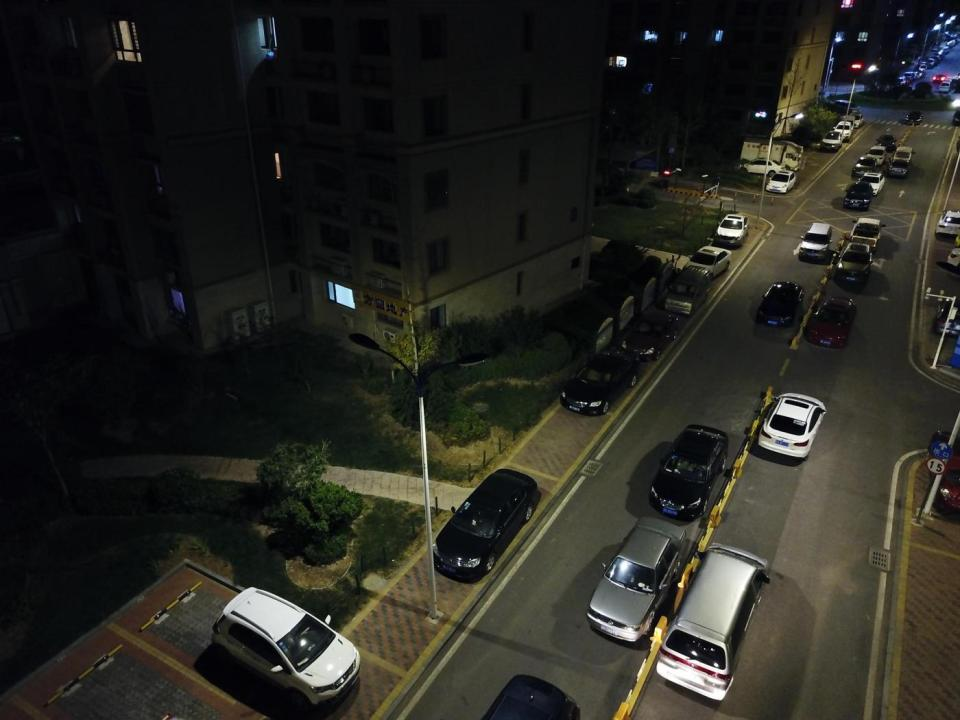car: (208, 584, 363, 712), (651, 540, 769, 701), (586, 512, 685, 645), (431, 467, 540, 581), (647, 424, 730, 522), (558, 345, 638, 417), (756, 391, 828, 461), (616, 307, 684, 362), (754, 278, 806, 332), (809, 295, 859, 351), (682, 244, 732, 280), (835, 241, 873, 285), (797, 221, 833, 261), (713, 213, 749, 247), (931, 206, 960, 238), (843, 180, 872, 211), (856, 170, 886, 198), (762, 139, 807, 157), (766, 170, 796, 195), (737, 159, 787, 174), (851, 154, 878, 177), (886, 158, 912, 180), (819, 129, 845, 151), (832, 97, 862, 114), (892, 146, 917, 166), (832, 121, 854, 143), (865, 146, 886, 166), (876, 134, 896, 152), (903, 111, 927, 126), (847, 111, 864, 128), (937, 78, 951, 94), (933, 73, 947, 84), (910, 69, 922, 80), (896, 75, 907, 86), (926, 57, 938, 67), (919, 61, 932, 69), (931, 54, 940, 63), (930, 45, 938, 52)
truck: (736, 135, 800, 174), (850, 216, 886, 248)
van: (663, 268, 714, 316), (840, 113, 858, 130), (903, 71, 915, 82), (915, 64, 928, 74)
